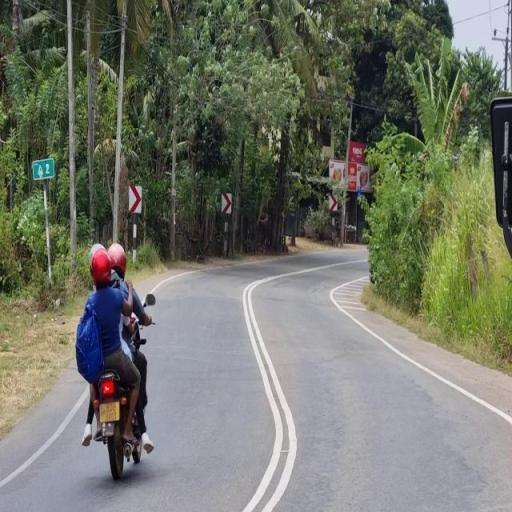double_white_line: (241, 272, 294, 510), (0, 387, 86, 488)
